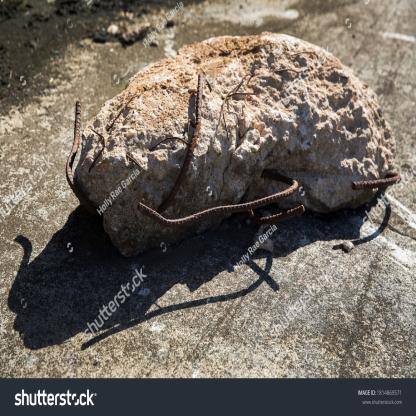rebar: (138, 170, 306, 234), (156, 72, 204, 213), (65, 100, 100, 221), (221, 78, 258, 142), (108, 86, 139, 133), (352, 169, 402, 191), (88, 126, 107, 174), (150, 134, 188, 154), (126, 151, 144, 172), (275, 66, 300, 75)
